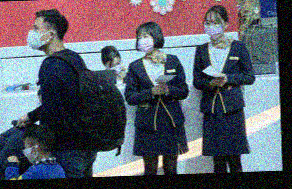with_mask: (25, 22, 50, 50), (136, 31, 155, 55), (204, 17, 224, 39), (22, 142, 36, 163), (105, 58, 123, 74)
